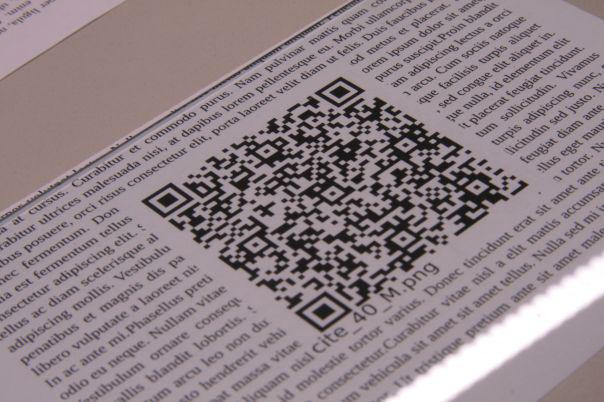Finder pattern: (296, 292, 351, 331), (141, 181, 195, 219), (313, 79, 367, 107)
